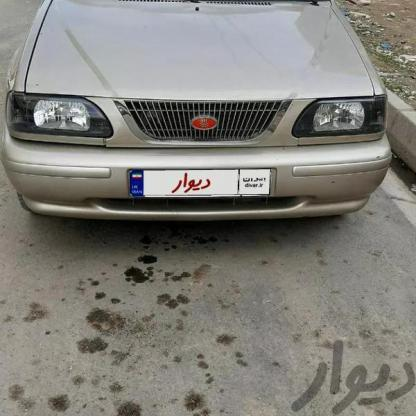Car: (0, 0, 395, 258)
